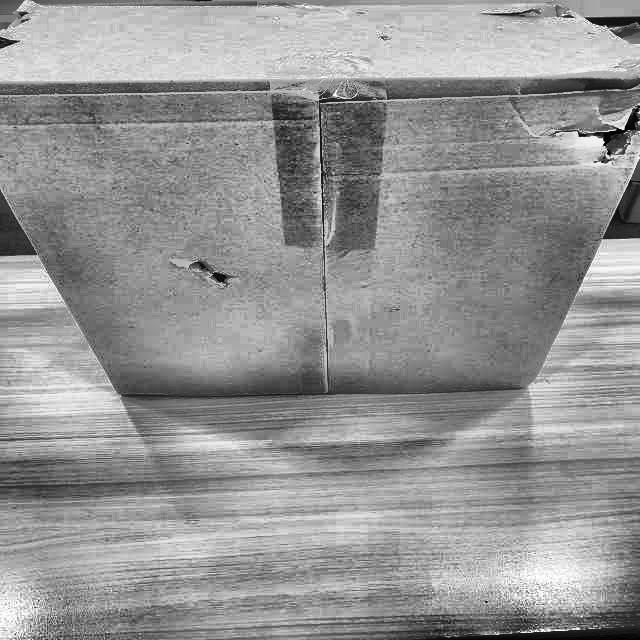box: (0, 5, 639, 420)
hole: (562, 112, 640, 154), (173, 251, 246, 291)
